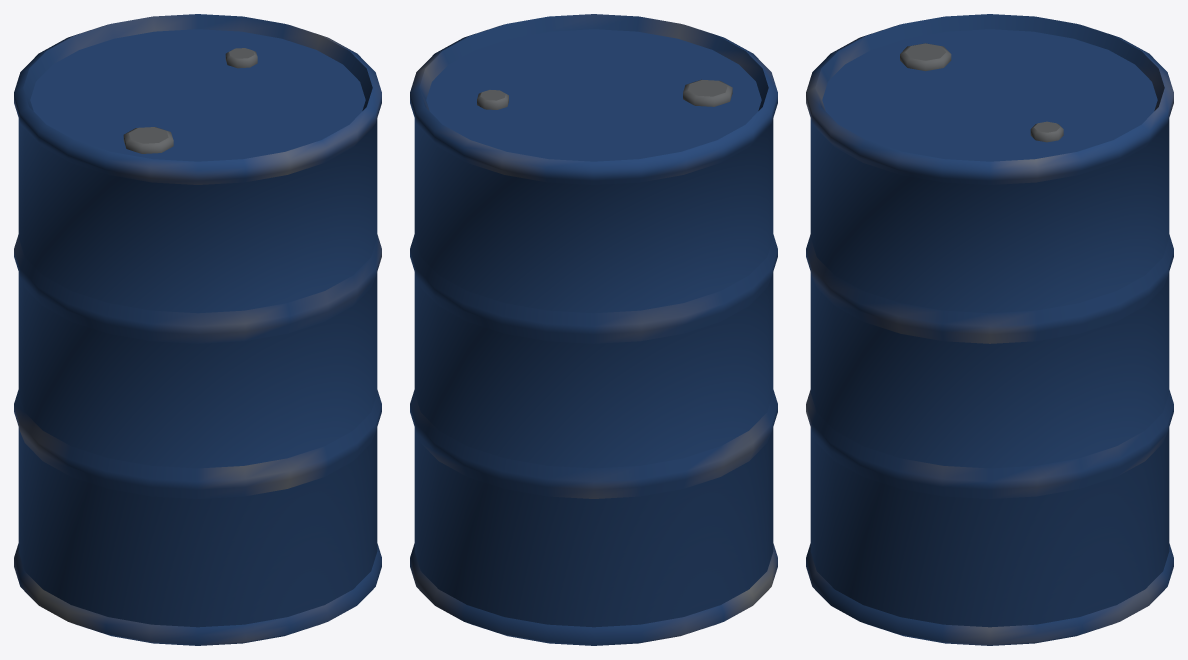
File: drum.steel.blue.glb
The picture shows the model from 3 angles, left to right: view 1: azimuth 30°, elevation 25°; view 2: azimuth 150°, elevation 25°; view 3: azimuth 270°, elevation 25°; orthographic projection.
Visible parts, largest first — view 1: drum_steel_blue; view 2: drum_steel_blue; view 3: drum_steel_blue.
Part boxes in pixels (<box>): drum_steel_blue: <box>14,14,381,645</box>; drum_steel_blue: <box>410,14,777,645</box>; drum_steel_blue: <box>806,14,1173,645</box>.
Size of what is drawn, in the model's own units: 0.653 by 0.95 by 0.653.
